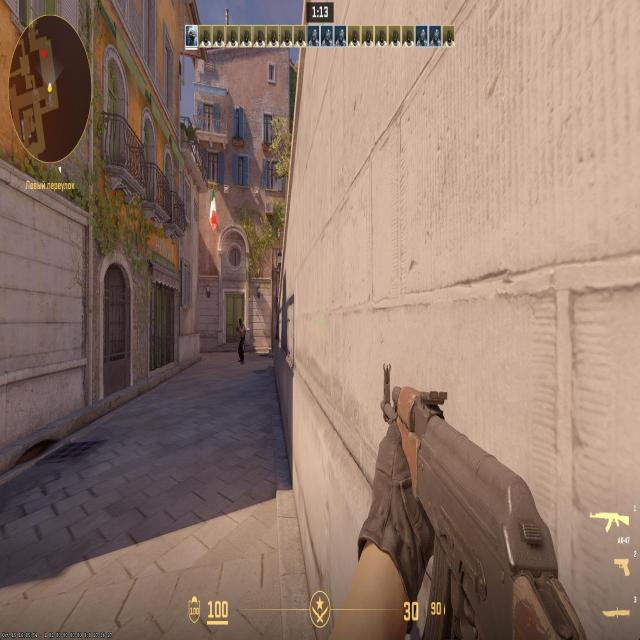T: (237, 319, 245, 362)
T_heat: (238, 321, 243, 328)
